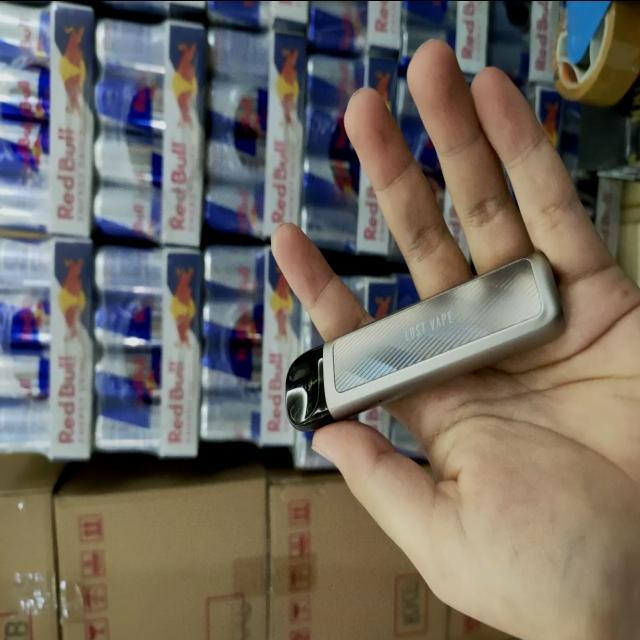Hazard: (284, 245, 570, 435)
